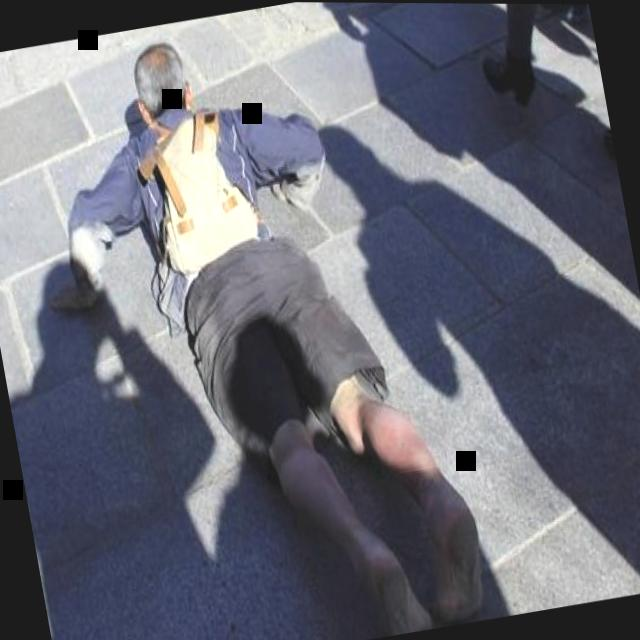Fall-Detected: (56, 0, 542, 640)
